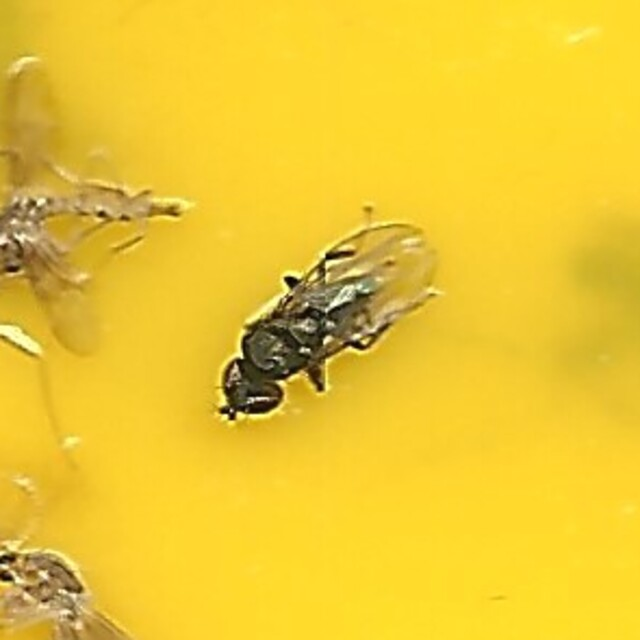Brachycera: (217, 211, 423, 429)
